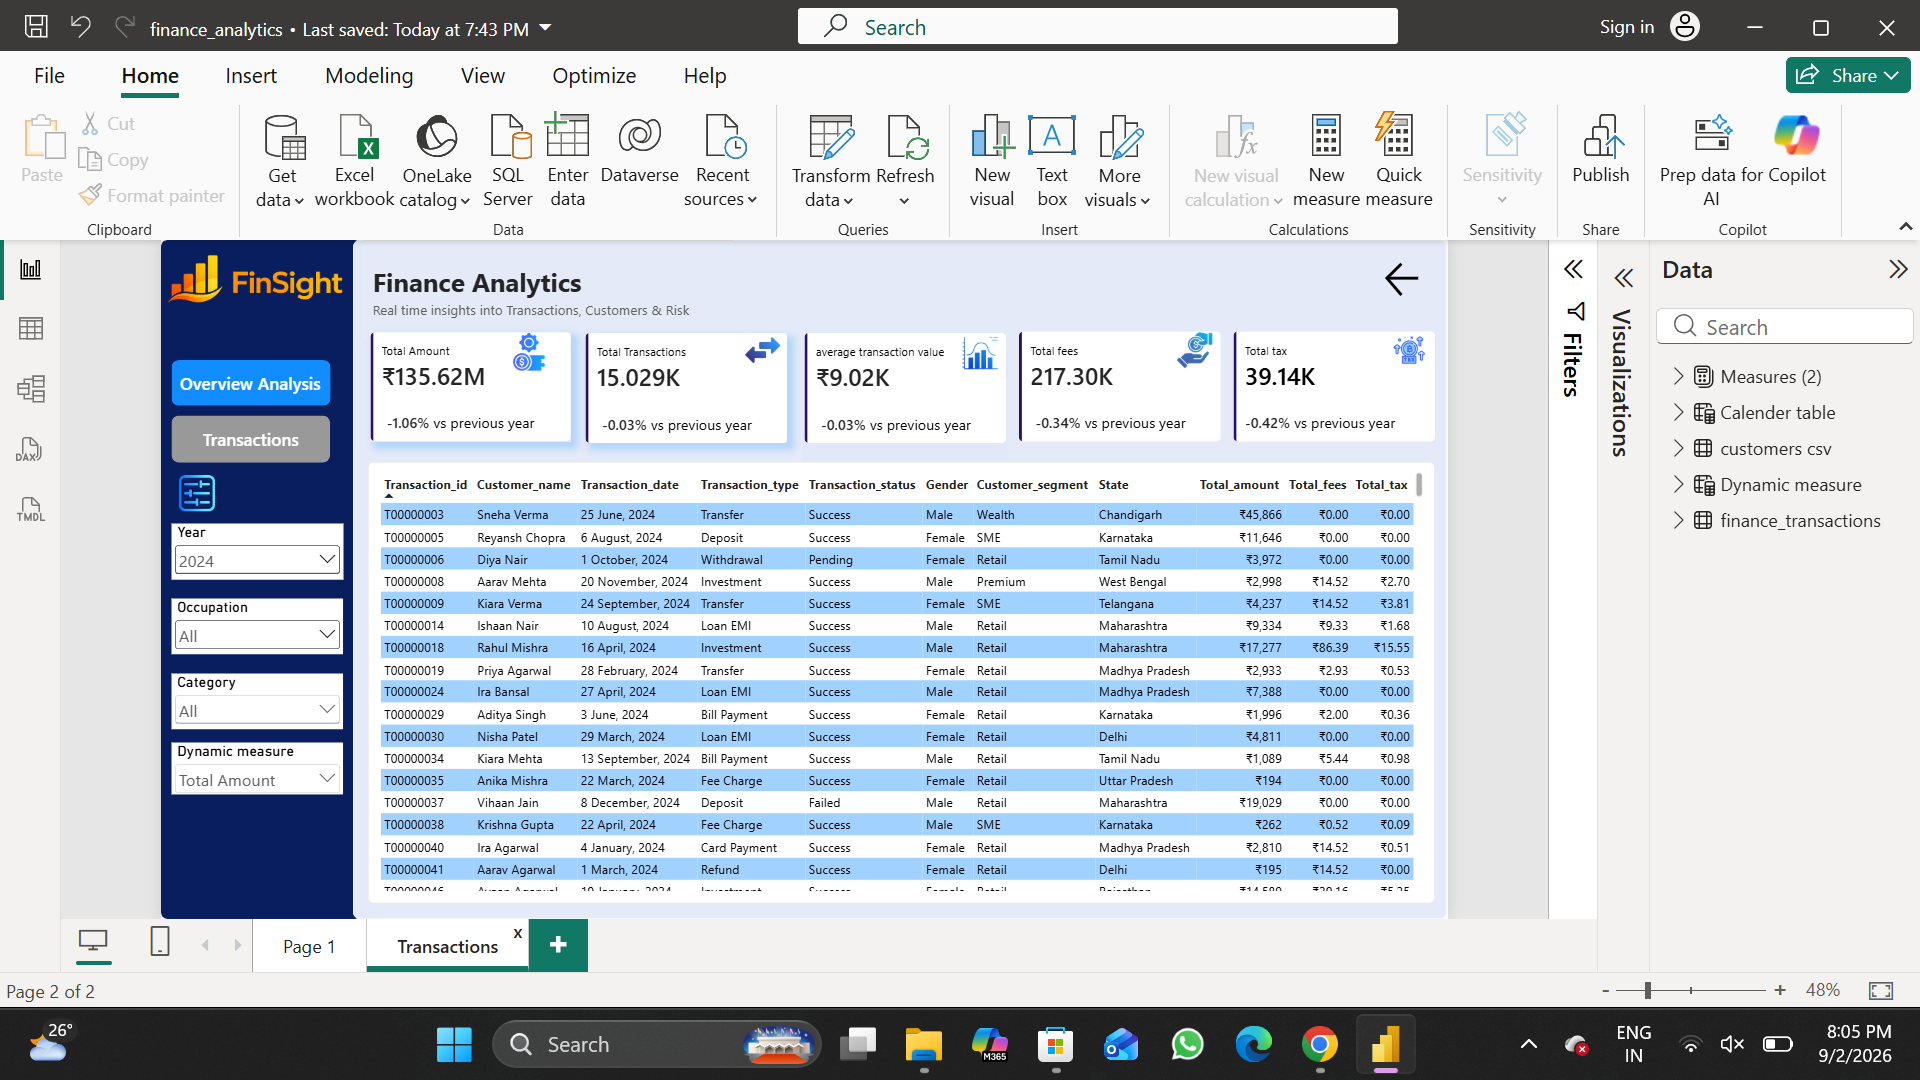

What the dashboard file says about the page in this screenshot:
{"tool":"powerbi","page":{"name":"Transactions","canvas":[1800,950],"ordinal":1},"visuals":[{"type":"shape","box":[0,0,280,950],"z":0},{"type":"shape","box":[269.2,0,1530,950],"z":1000},{"type":"image","box":[0,0,270,110],"z":2000},{"type":"cardVisual","fields":{"Data":["finance_transactions.Dashboard Title"]},"box":[278.9,0,526.3,144.7],"z":3000},{"type":"cardVisual","fields":{"Data":["finance_transactions.Total Amount"]},"box":[291.1,128.9,282,154.4],"z":4000},{"type":"slicer","fields":{"Values":["Calender table.year"]},"box":[14.3,397.6,240.5,78.6],"z":5000},{"type":"cardVisual","fields":{"Data":["finance_transactions.total transactions"]},"box":[594.4,130,282,154.2],"z":6000},{"type":"image","box":[478.9,131.1,72.9,52.9],"z":7000},{"type":"image","box":[805.6,128.9,72,52],"z":8000},{"type":"cardVisual","fields":{"Data":["finance_transactions.total fees"]},"box":[1201.1,128.9,282,154.3],"z":9000},{"type":"image","box":[1411.1,128.9,72,52],"z":10000},{"type":"cardVisual","fields":{"Data":["finance_transactions.avg trans val"]},"box":[900,131.1,282,154],"z":11000},{"type":"image","box":[1110,132.2,72,52],"z":12000},{"type":"cardVisual","fields":{"Data":["finance_transactions.Total tax"]},"box":[1501.1,128.9,282.2,154.4],"z":13000},{"type":"image","box":[1711.1,128.9,72,52],"z":14000},{"type":"image","box":[14.5,324.5,71.8,58.2],"z":15000},{"type":"actionButton","box":[14.5,168.2,222.7,64],"z":16000},{"type":"actionButton","box":[14,246,222,66],"z":17000},{"type":"slicer","fields":{"Values":["customers csv.occupation"]},"box":[14.3,501.4,240,78],"z":18000},{"type":"slicer","fields":{"Values":["finance_transactions.merchant_category"]},"box":[15,607.5,240,78],"z":19000},{"type":"slicer","fields":{"Values":["Parameter.Parameter"]},"box":[15,702.5,240,72.5],"z":20000},{"type":"tableEx","fields":{"Values":["finance_transactions.transaction_id","customers csv.Customer_name","finance_transactions.transaction_date","finance_transactions.transaction_type","finance_transactions.transaction_status","customers csv.gender","customers csv.customer_segment","customers csv.state","Sum(finance_transactions.Total_amount)","Sum(finance_transactions.Total_fees)","Sum(finance_transactions.Total_tax)"]},"box":[290,310,1492.5,617.5],"z":21000},{"type":"actionButton","box":[1675,0,125,110],"z":21001}]}

Visuals, with their boxes on the page's 1800x950 design canvas (x1, y1, x2, y2). These are canvas units, not pixel positions in the 1920x1080 screenshot, which may show the page scaled, cropped or inside an application window:
shape: box(0, 0, 280, 950)
shape: box(269, 0, 1799, 950)
image: box(0, 0, 270, 110)
cardVisual - finance_transactions.Dashboard Title: box(279, 0, 805, 145)
cardVisual - finance_transactions.Total Amount: box(291, 129, 573, 283)
slicer - Calender table.year: box(14, 398, 255, 476)
cardVisual - finance_transactions.total transactions: box(594, 130, 876, 284)
image: box(479, 131, 552, 184)
image: box(806, 129, 878, 181)
cardVisual - finance_transactions.total fees: box(1201, 129, 1483, 283)
image: box(1411, 129, 1483, 181)
cardVisual - finance_transactions.avg trans val: box(900, 131, 1182, 285)
image: box(1110, 132, 1182, 184)
cardVisual - finance_transactions.Total tax: box(1501, 129, 1783, 283)
image: box(1711, 129, 1783, 181)
image: box(14, 324, 86, 383)
actionButton: box(14, 168, 237, 232)
actionButton: box(14, 246, 236, 312)
slicer - customers csv.occupation: box(14, 501, 254, 579)
slicer - finance_transactions.merchant_category: box(15, 608, 255, 686)
slicer - Parameter.Parameter: box(15, 702, 255, 775)
tableEx - finance_transactions.transaction_id x customers csv.Customer_name: box(290, 310, 1782, 928)
actionButton: box(1675, 0, 1800, 110)
